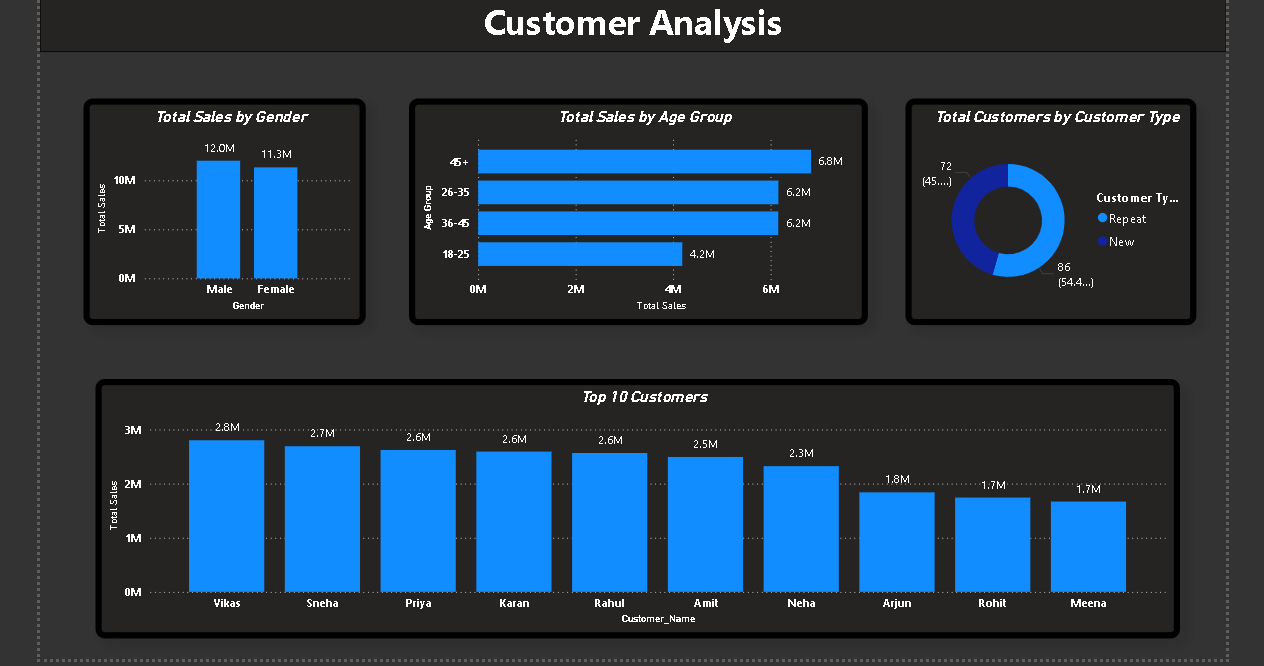

The dashboard page shown, as its layout file describes it:
{"tool":"powerbi","page":{"name":"Page 2","canvas":[1280,720],"ordinal":1},"visuals":[{"type":"textbox","box":[0,0,1280.8,64.8],"z":0},{"type":"clusteredColumnChart","fields":{"Category":["Ecommerce_Data.Gender"],"Y":["Ecommerce_Data.Total Sales"]},"box":[47,115,304.4,244.5],"z":1000},{"type":"donutChart","fields":{"Category":["Ecommerce_Data.Customer Type"],"Y":["Ecommerce_Data.Total Customers"]},"box":[934.3,115,314.1,244.5],"z":2000},{"type":"barChart","fields":{"Category":["Ecommerce_Data.Age Group"],"Y":["Ecommerce_Data.Total Sales"]},"box":[398.3,115,495.5,244.5],"z":3000},{"type":"clusteredColumnChart","title":"Top 10 Customers","fields":{"Category":["Ecommerce_Data.Customer_Name"],"Y":["Ecommerce_Data.Total Sales"]},"box":[59.9,417.8,1170.7,280.1],"z":4000}]}

Visuals, with their boxes on the page's 1280x720 design canvas (x1, y1, x2, y2). These are canvas units, not pixel positions in the 1264x666 screenshot, which may show the page scaled, cropped or inside an application window:
textbox: {"x1": 0, "y1": 0, "x2": 1281, "y2": 65}
clusteredColumnChart - Ecommerce_Data.Gender x Ecommerce_Data.Total Sales: {"x1": 47, "y1": 115, "x2": 351, "y2": 360}
donutChart - Ecommerce_Data.Customer Type x Ecommerce_Data.Total Customers: {"x1": 934, "y1": 115, "x2": 1248, "y2": 360}
barChart - Ecommerce_Data.Age Group x Ecommerce_Data.Total Sales: {"x1": 398, "y1": 115, "x2": 894, "y2": 360}
"Top 10 Customers" clusteredColumnChart: {"x1": 60, "y1": 418, "x2": 1231, "y2": 698}
